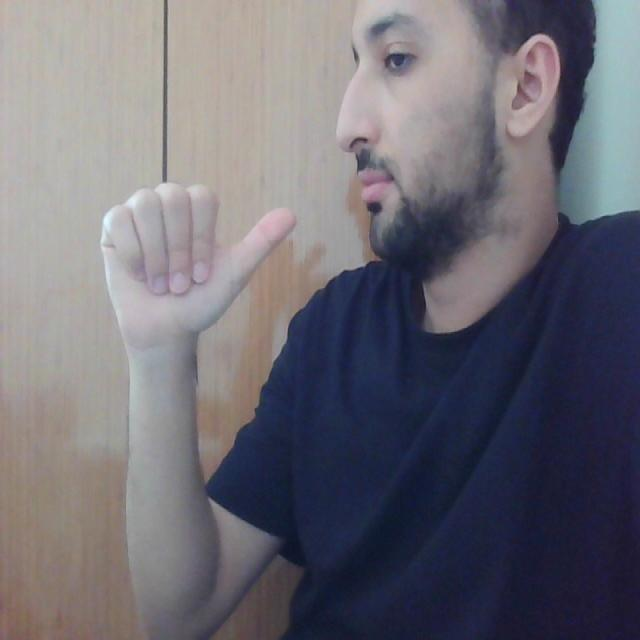icmek: (98, 114, 377, 325)
